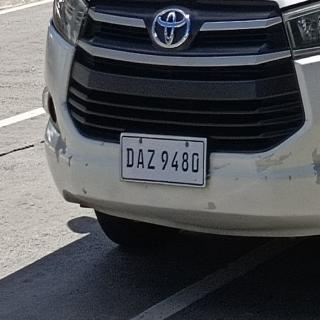license: (122, 134, 208, 189)
